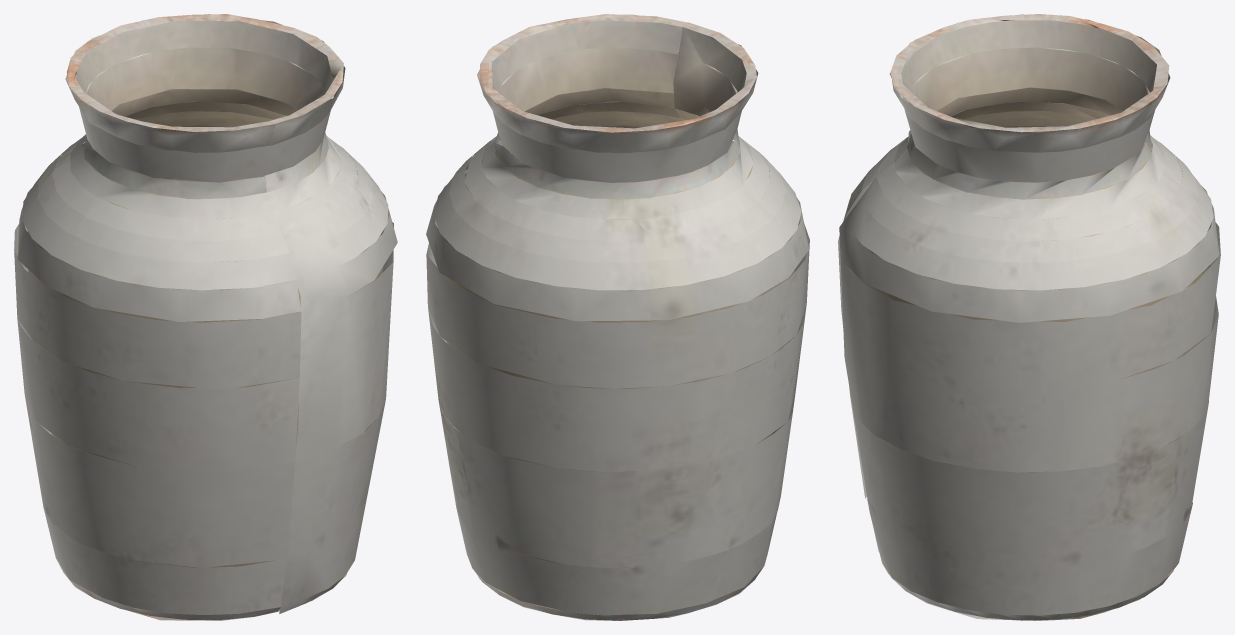
The model's file is ceramic_vase_02.glb.
3 views of the same model, side by side, from view 1: azimuth 30°, elevation 25°; view 2: azimuth 150°, elevation 25°; view 3: azimuth 270°, elevation 25° (orthographic).
Visible parts, largest first — view 1: ceramic_vase_02; view 2: ceramic_vase_02; view 3: ceramic_vase_02.
Part boxes in pixels (bbox=[...]): ceramic_vase_02: bbox=[14, 14, 397, 620]; ceramic_vase_02: bbox=[426, 14, 809, 620]; ceramic_vase_02: bbox=[838, 14, 1220, 620].
Size of the model in its own units: 0.2191 by 0.3091 by 0.2184.
1 material, 1 textured.
